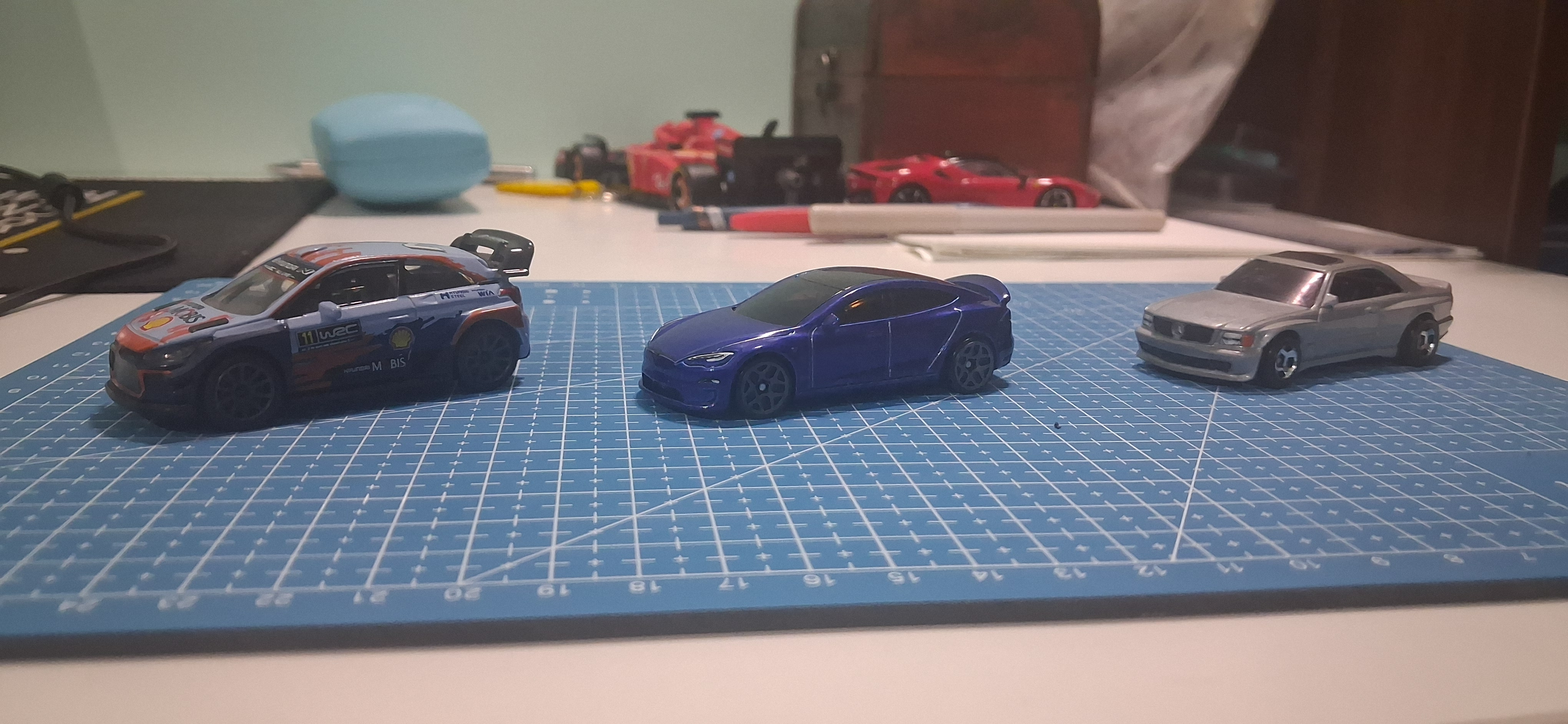Hyundai_I20_WRC: (91, 198, 556, 448)
Mercedes_Benz_560_SEC_AMG: (1116, 220, 1464, 449)
Tesla_Model_S_Plaid: (615, 231, 1032, 488)
